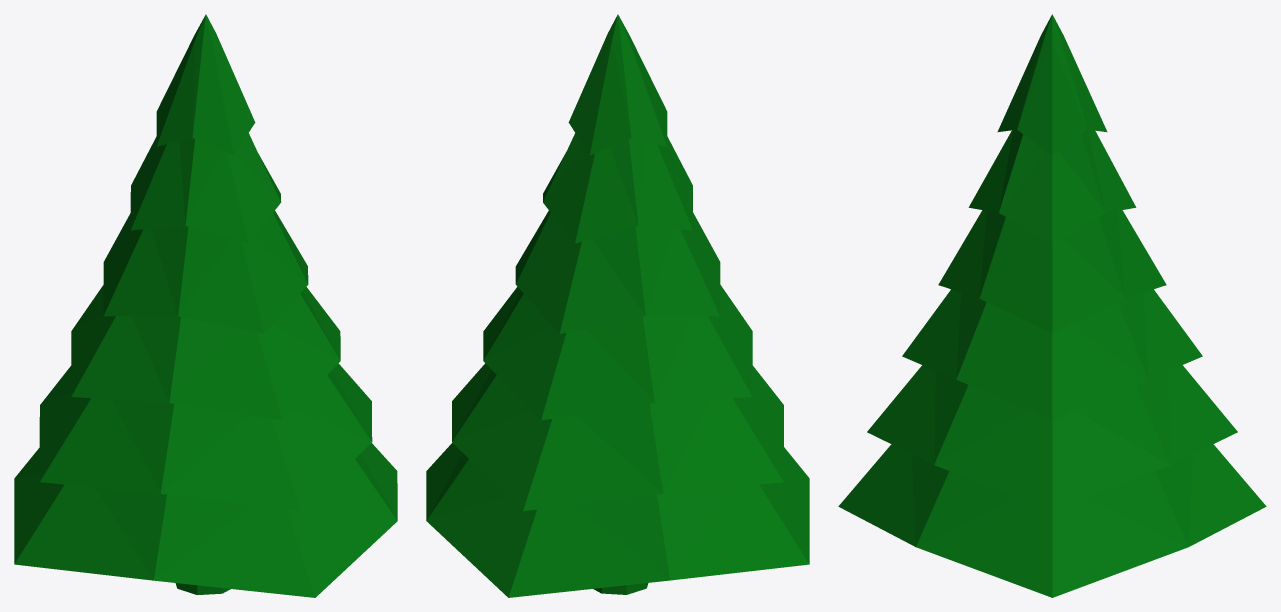
File: PineTree2.dae
The picture shows the model from 3 angles, left to right: view 1: azimuth 30°, elevation 25°; view 2: azimuth 150°, elevation 25°; view 3: azimuth 270°, elevation 25°; orthographic projection. The views are drawn at different scales.
Visible parts, largest first — view 1: Tanne2; view 2: Tanne2; view 3: Tanne2.
Part boxes in pixels (box(x1,y1,x2,y2)): Tanne2: box(14, 14, 397, 597); Tanne2: box(426, 14, 809, 597); Tanne2: box(838, 14, 1266, 597).
Size of the model in its own units: 7.32 by 7.25 by 10.36.
